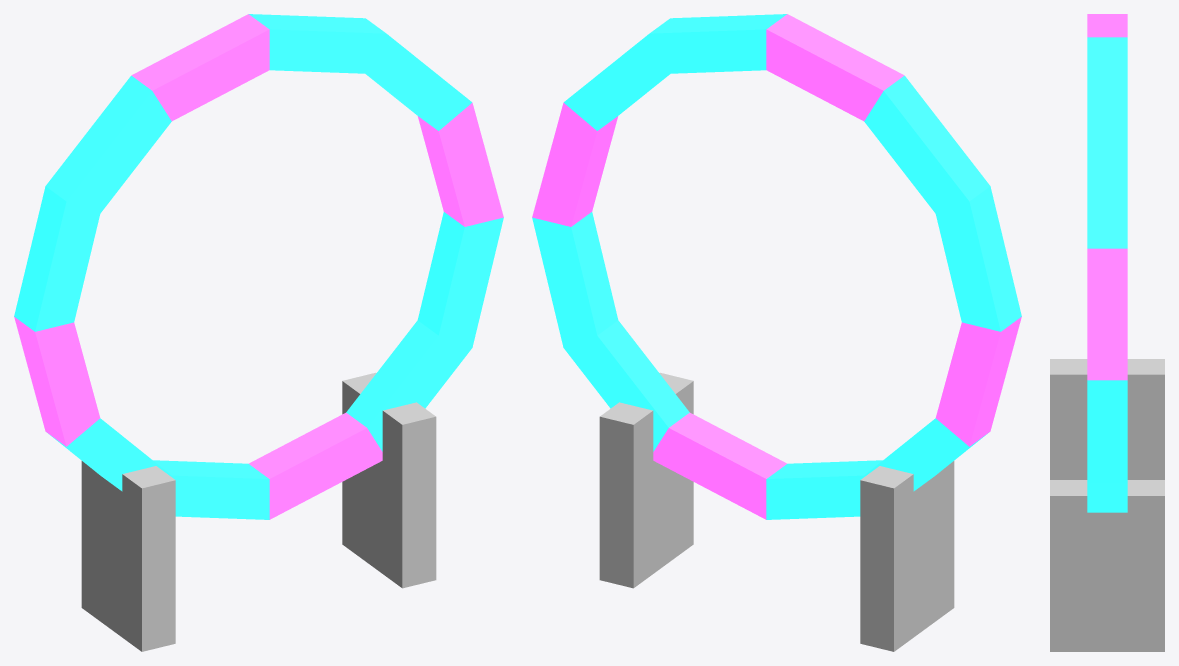
3 views of the same model, side by side, from view 1: azimuth 30°, elevation 25°; view 2: azimuth 150°, elevation 25°; view 3: azimuth 270°, elevation 25° (orthographic). The views are drawn at different scales.
Visible parts, largest first — view 1: Neon_HoloRing_Simple; view 2: Neon_HoloRing_Simple; view 3: Neon_HoloRing_Simple.
Boxes of the visible parts, box(x1,y1,x2,y2) form: Neon_HoloRing_Simple: box(14, 14, 503, 651); Neon_HoloRing_Simple: box(532, 14, 1021, 651); Neon_HoloRing_Simple: box(1050, 14, 1164, 651).
Size of the model in its own units: 1.8 by 2.1 by 0.4.
